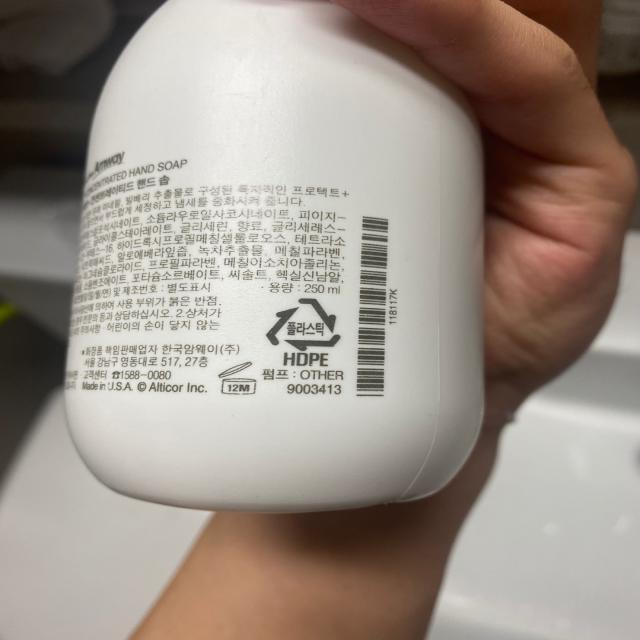Plastic: (263, 295, 346, 352)
